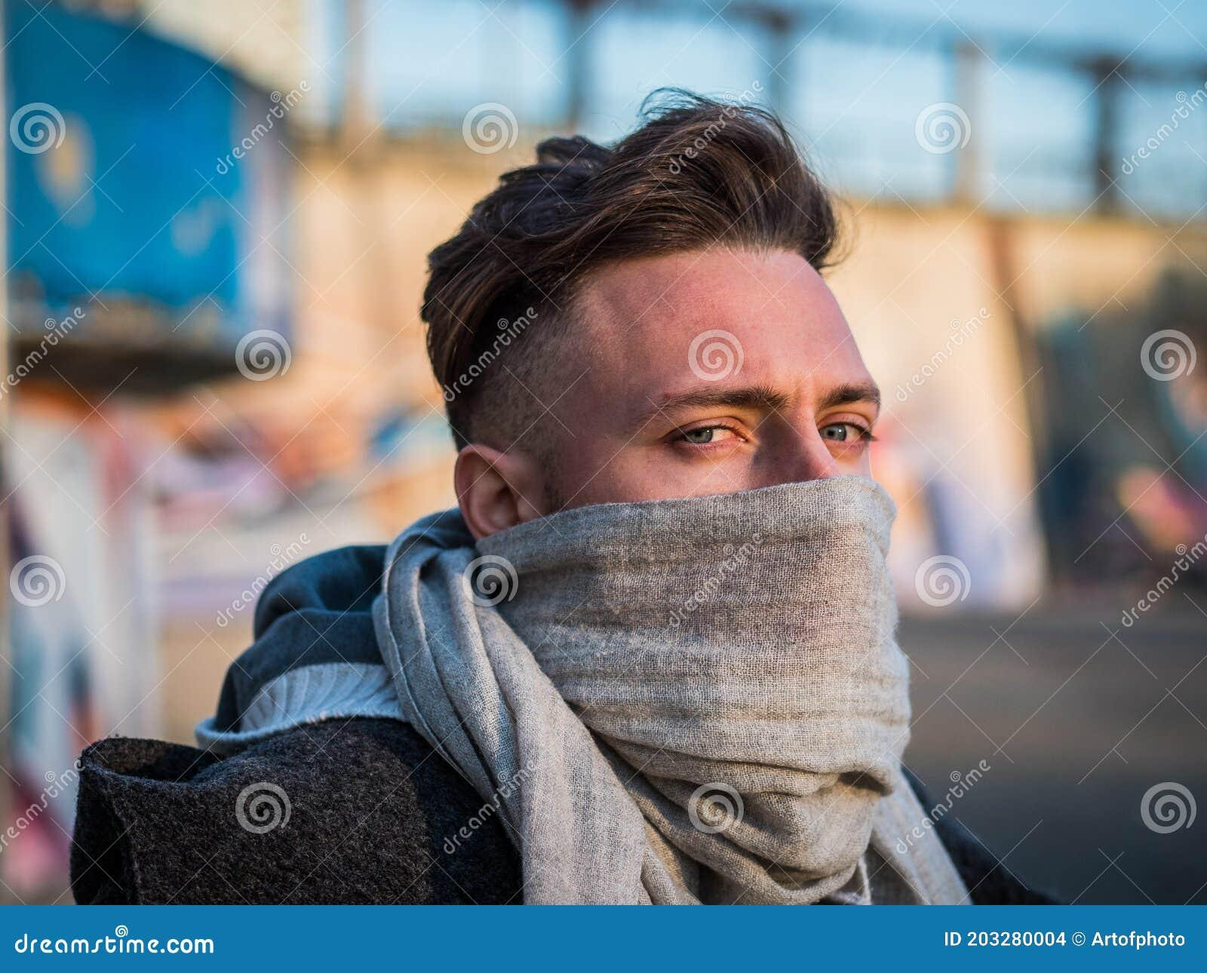scarf-kerchief: (377, 458, 953, 910)
